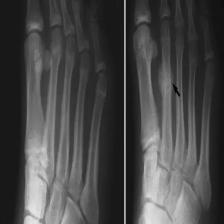stress-fracture: (21, 0, 214, 224)
